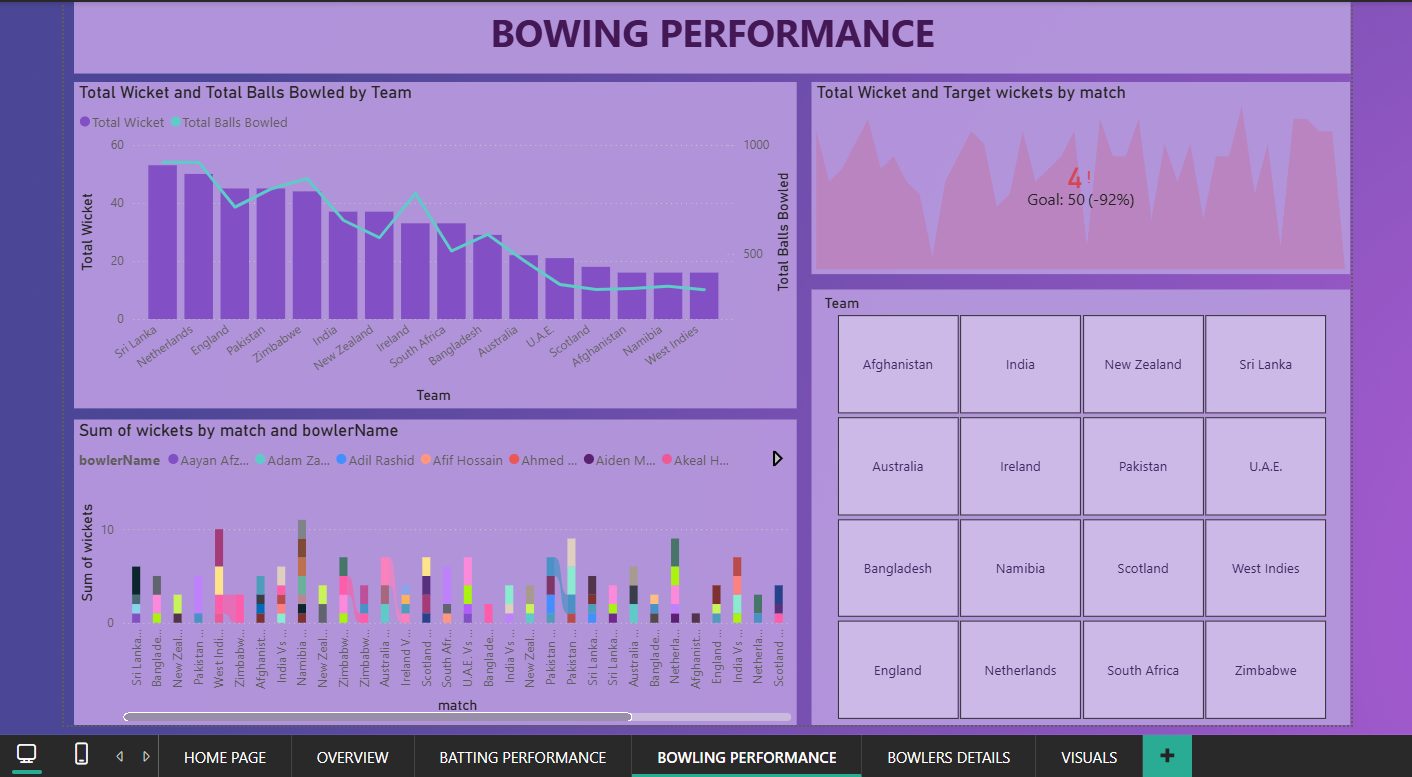

Layout of this report page (visuals, bound fields, positions):
{"tool":"powerbi","page":{"name":"BOWLING PERFORMANCE ","canvas":[1280,720],"ordinal":3},"visuals":[{"type":"textbox","box":[9.6,0,1270.7,71.4],"z":0},{"type":"lineStackedColumnComboChart","fields":{"Category":["Bowling.Team"],"Y":["CALCULATION.Total Wicket"],"Y2":["CALCULATION.Total Balls Bowled"]},"box":[10,79.6,719,324.7],"z":1000},{"type":"ribbonChart","fields":{"Y":["Sum(Bowling.wickets)"],"Series":["Bowling.bowlerName"],"Category":["Bowling.match"]},"box":[10,415,719,305],"z":2000},{"type":"slicer","fields":{"Values":["Bowling.Team"]},"box":[743.9,286.1,536.1,434.1],"z":3000},{"type":"kpi","fields":{"Indicator":["CALCULATION.Total Wicket"],"TrendLine":["Bowling.match"],"Goal":["CALCULATION.Target wickets"]},"box":[743.9,79.6,536.1,191.6],"z":4000}]}

Visuals, with their boxes on the page's 1280x720 design canvas (x1, y1, x2, y2). These are canvas units, not pixel positions in the 1412x777 screenshot, which may show the page scaled, cropped or inside an application window:
textbox: BBox(10, 0, 1280, 71)
lineStackedColumnComboChart - Bowling.Team x CALCULATION.Total Wicket: BBox(10, 80, 729, 404)
ribbonChart - Sum(Bowling.wickets) x Bowling.bowlerName: BBox(10, 415, 729, 720)
slicer - Bowling.Team: BBox(744, 286, 1280, 720)
kpi - CALCULATION.Total Wicket x Bowling.match: BBox(744, 80, 1280, 271)
